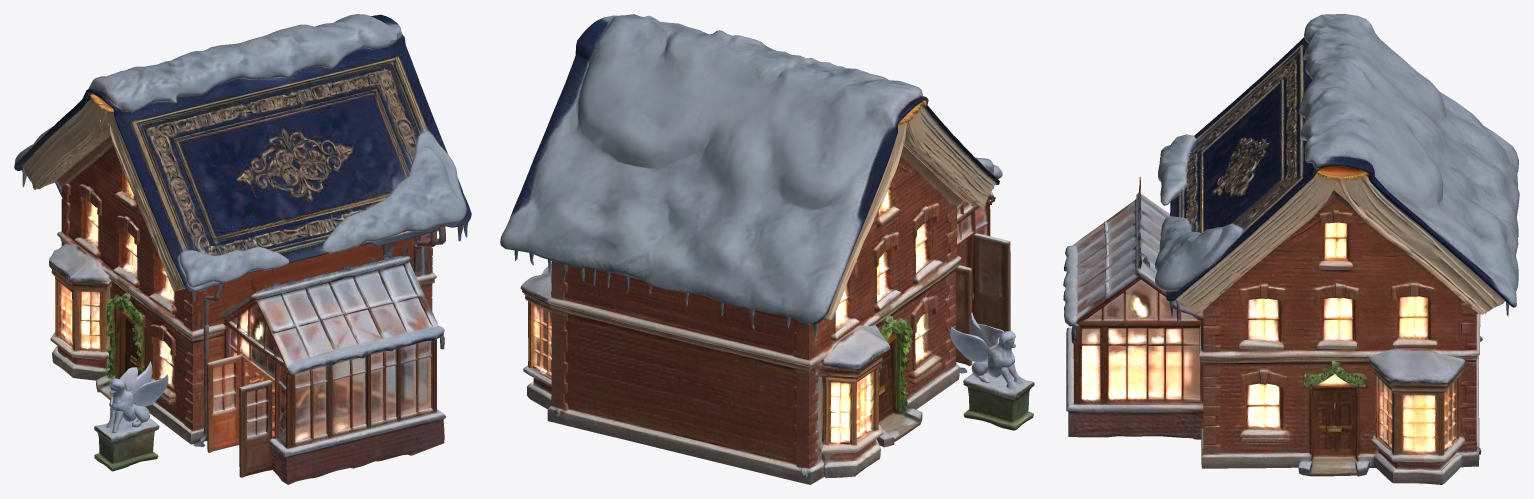
The model's file is time-machine.glb.
3 renders of one model, left to right at view 1: azimuth 30°, elevation 25°; view 2: azimuth 150°, elevation 25°; view 3: azimuth 270°, elevation 25°, orthographic. The views are drawn at different scales.
Visible parts, largest first — view 1: model; view 2: model; view 3: model.
Boxes of the visible parts, box(x1,y1,x2,y2) form: model: box(14, 14, 471, 484); model: box(500, 14, 1034, 484); model: box(1063, 14, 1519, 484).
Bounding box in the file's own units: 1.77 × 1.6 × 1.9.
1 material, 1 textured.
